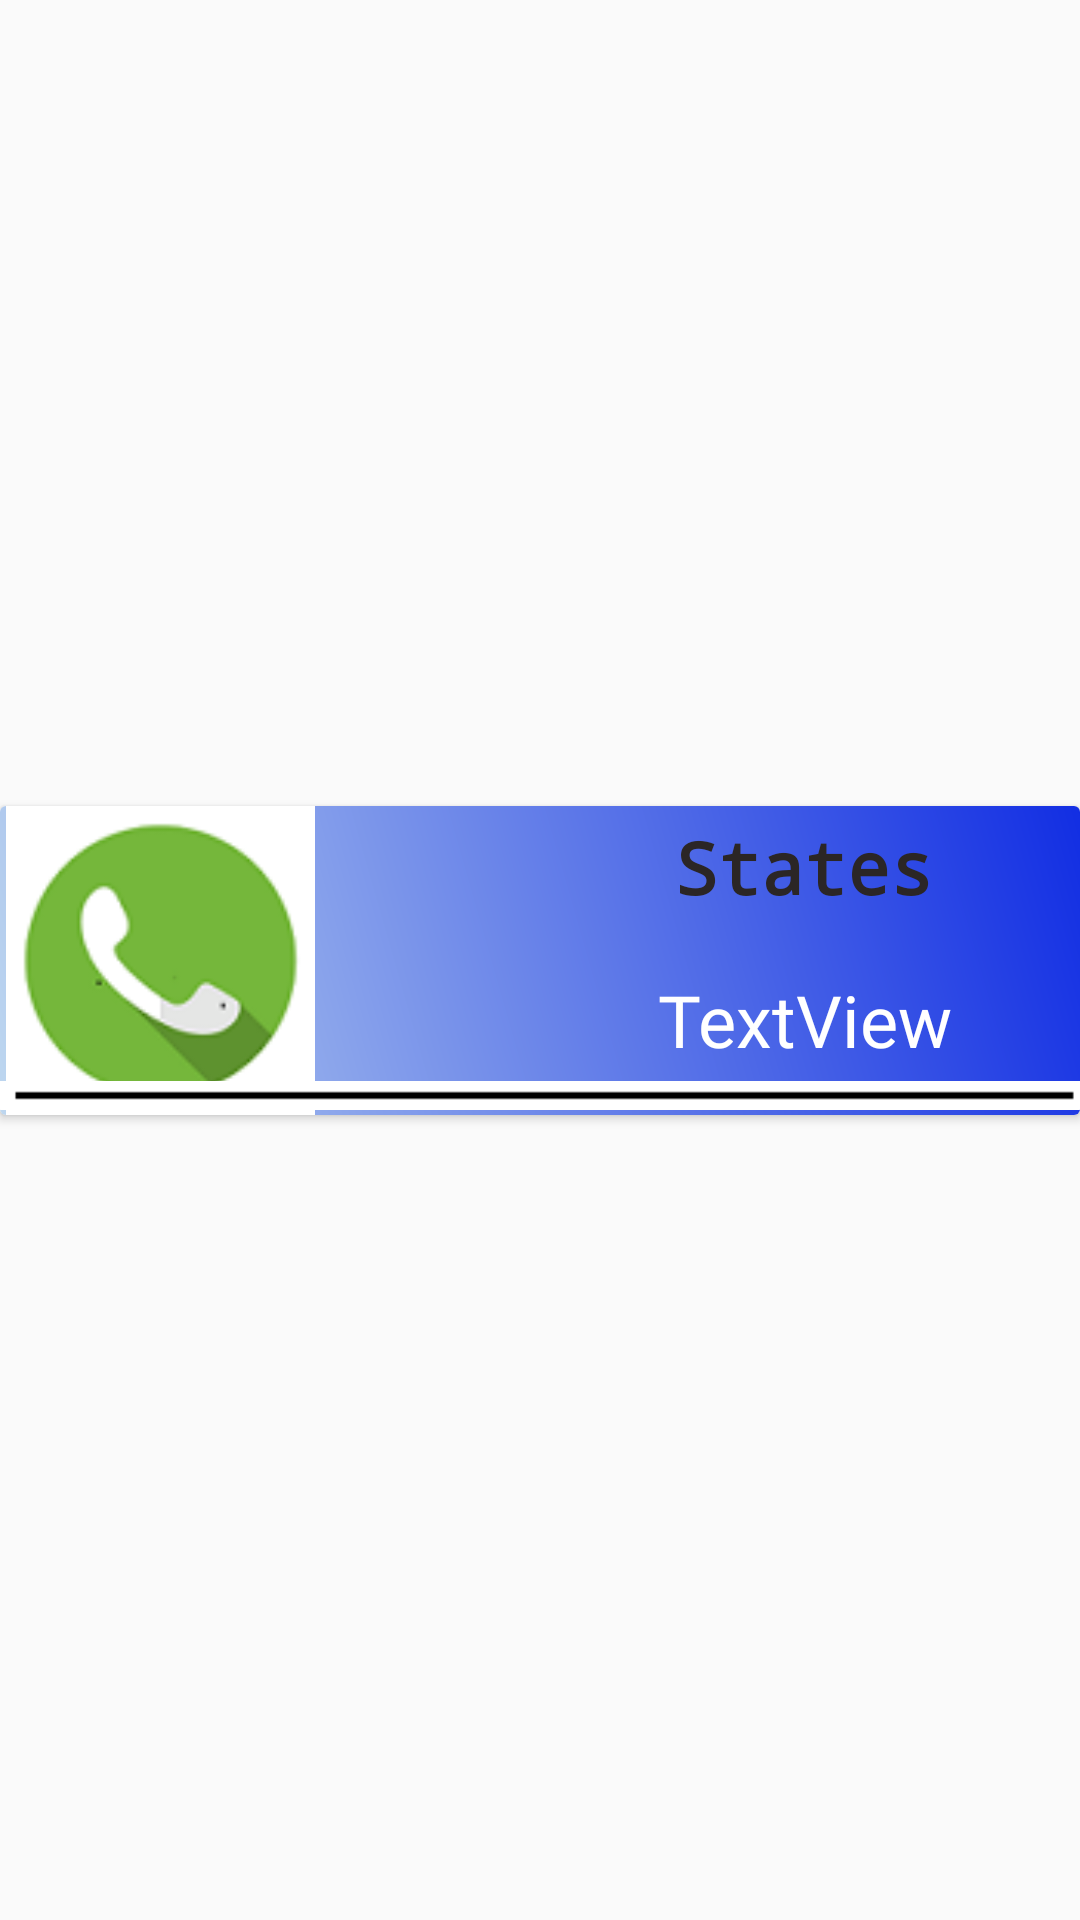

Where to tap for icons on this 1080w x 1920h app screen, as (x=x, y=y):
phone: (x=160, y=960)
